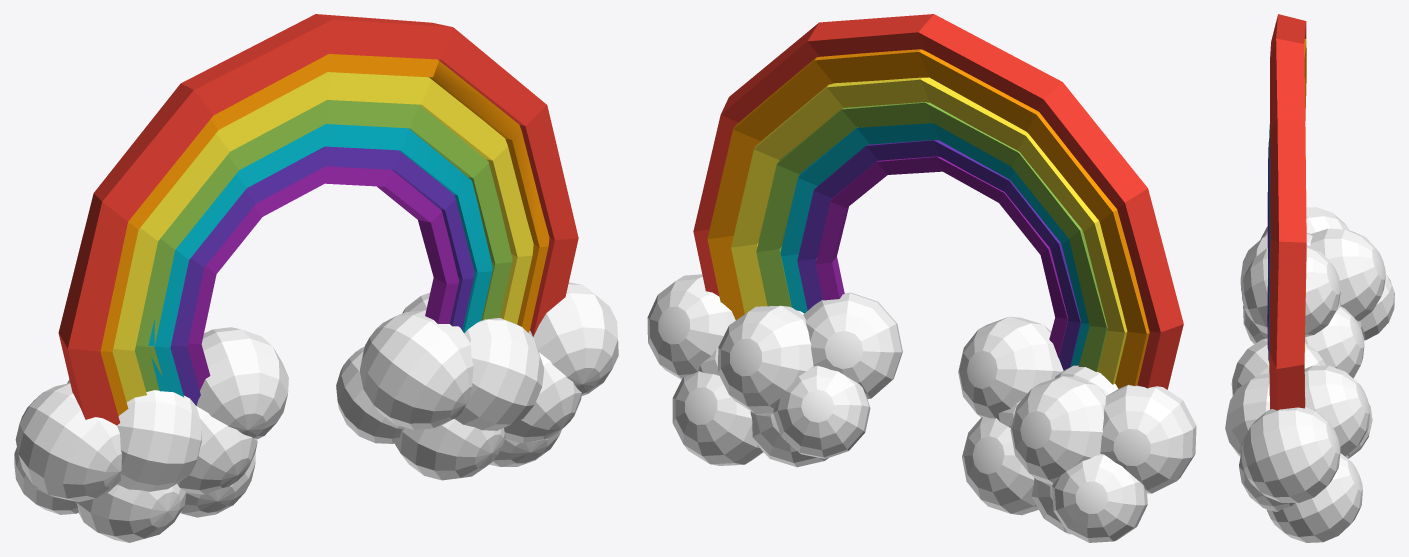
Rendered from Rainbow.glb.
3 renders of one model, left to right at view 1: azimuth 30°, elevation 25°; view 2: azimuth 150°, elevation 25°; view 3: azimuth 270°, elevation 25°, orthographic. The views are drawn at different scales.
Visible parts, largest first — view 1: rainbow; view 2: rainbow; view 3: rainbow.
Boxes of the visible parts, box(x1,y1,x2,y2) form: rainbow: box(14, 14, 618, 542); rainbow: box(647, 14, 1196, 542); rainbow: box(1225, 14, 1394, 542).
Bounding box in the file's own units: 0.6742 × 0.5654 × 0.2068.
